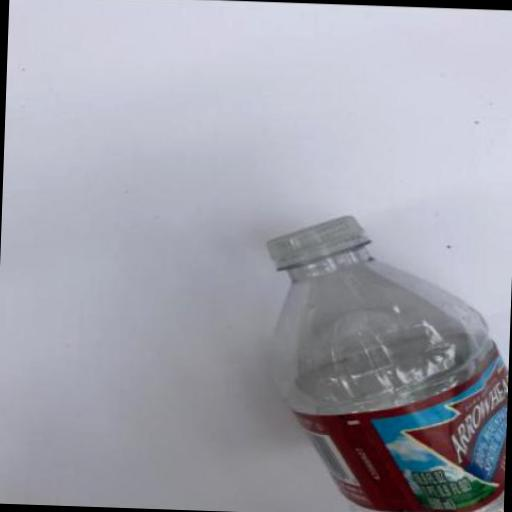plastic: (257, 207, 512, 512), (262, 323, 508, 512), (265, 208, 375, 271)
